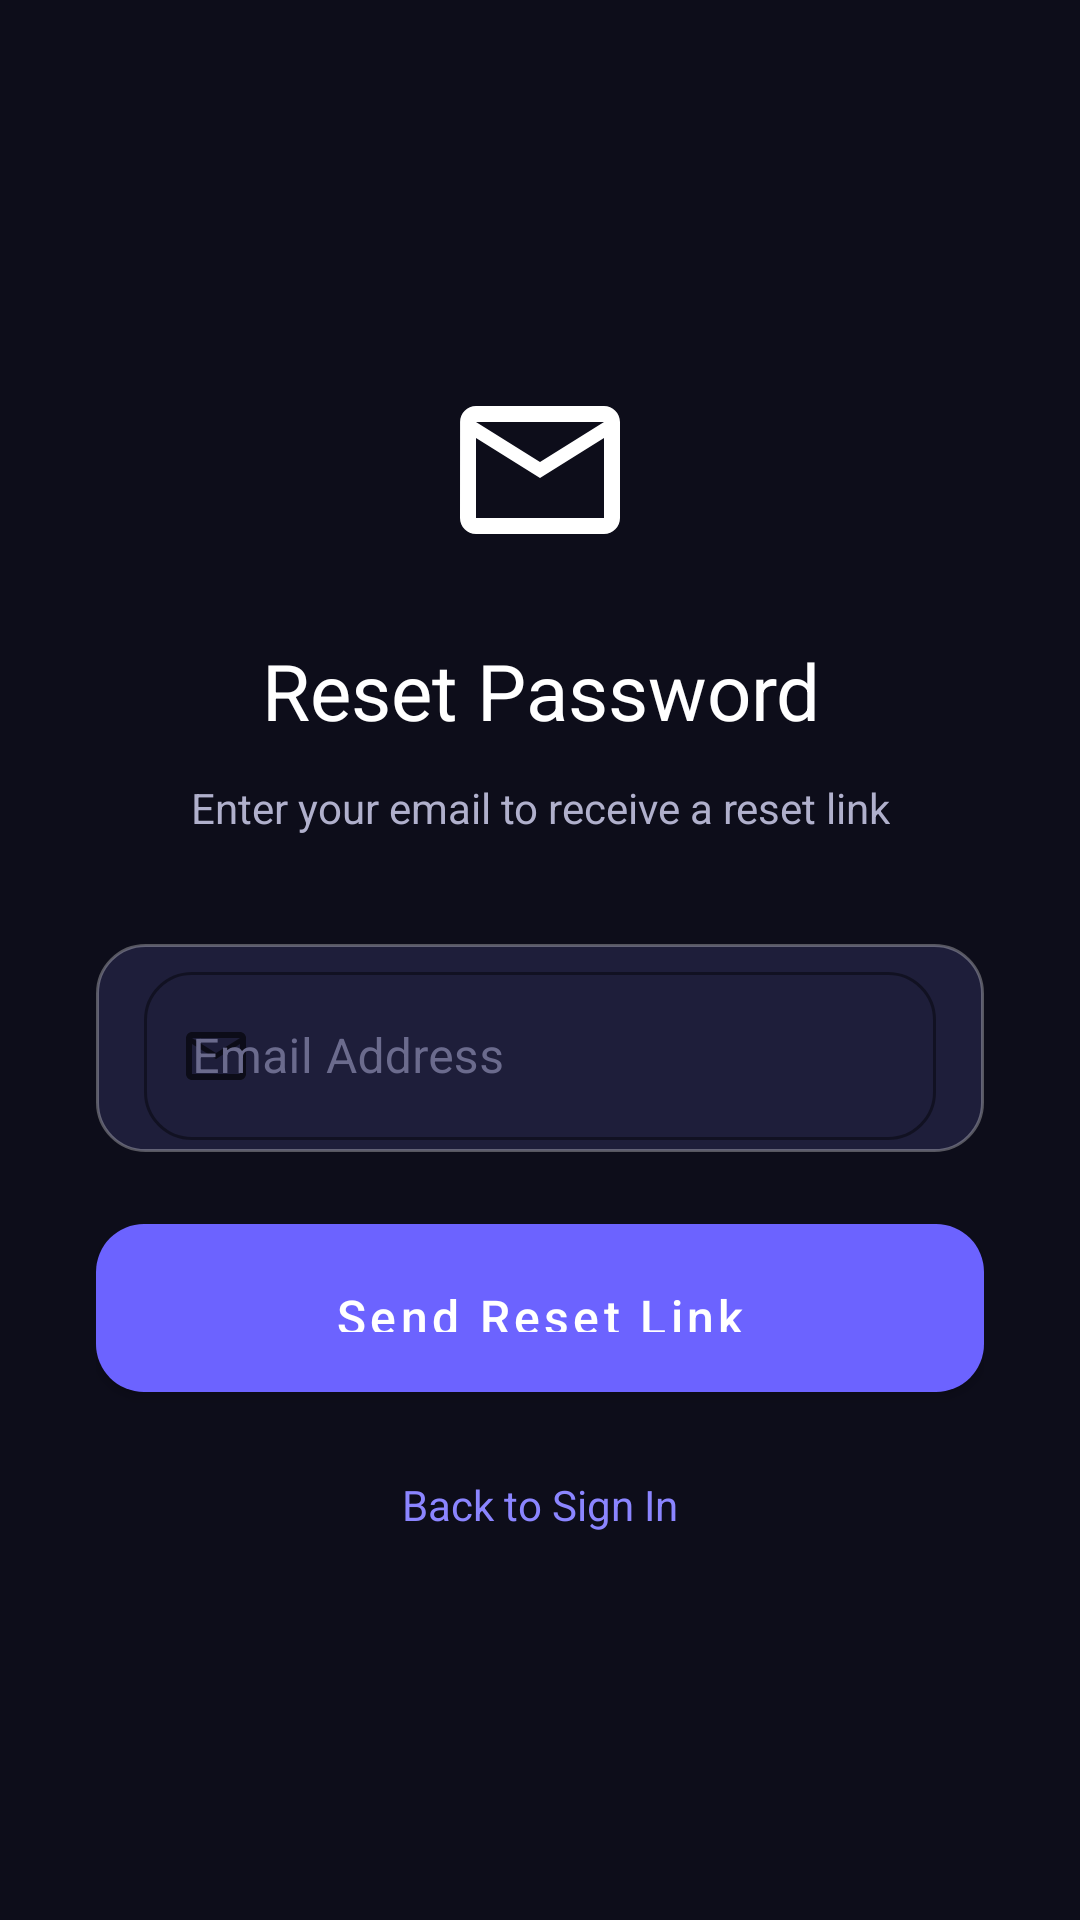

Where icons sit on this 1080px×1920px app screen, as (x1, y1, x2, y2):
Email: (460, 406, 620, 534)
